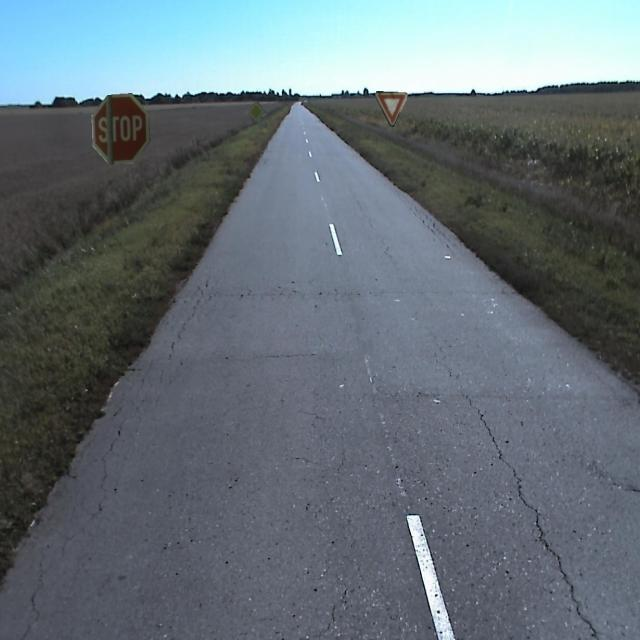road: (0, 102, 639, 639)
